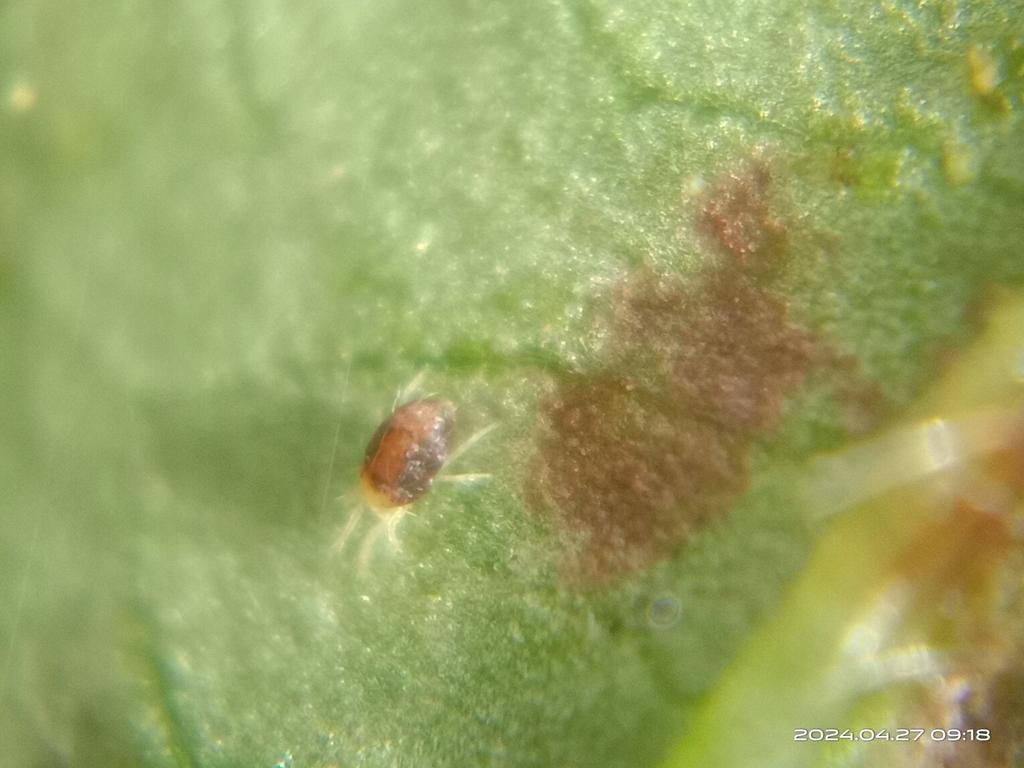tiny_pests: (318, 342, 533, 556)
